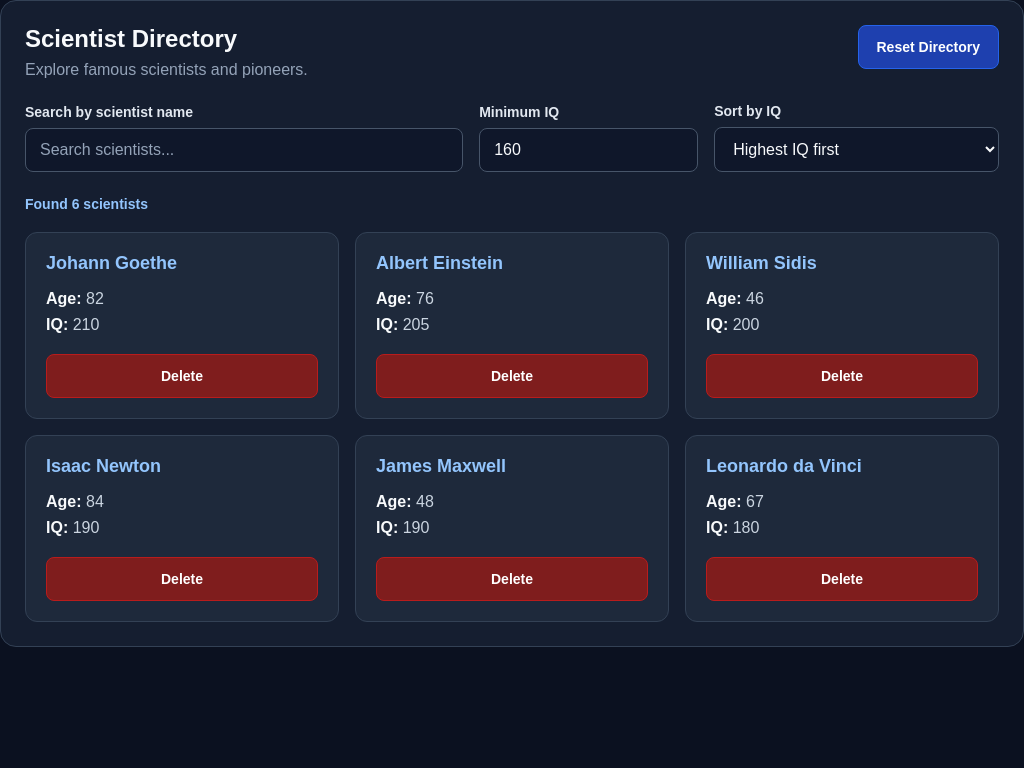
ScientistDirectory › focuses Reset when no results remain
The width and height of the screenshot is (1024, 768).
Type "einstein" into the search field labelled "Search by scientist name" at (244, 150), box [25,128,463,172]
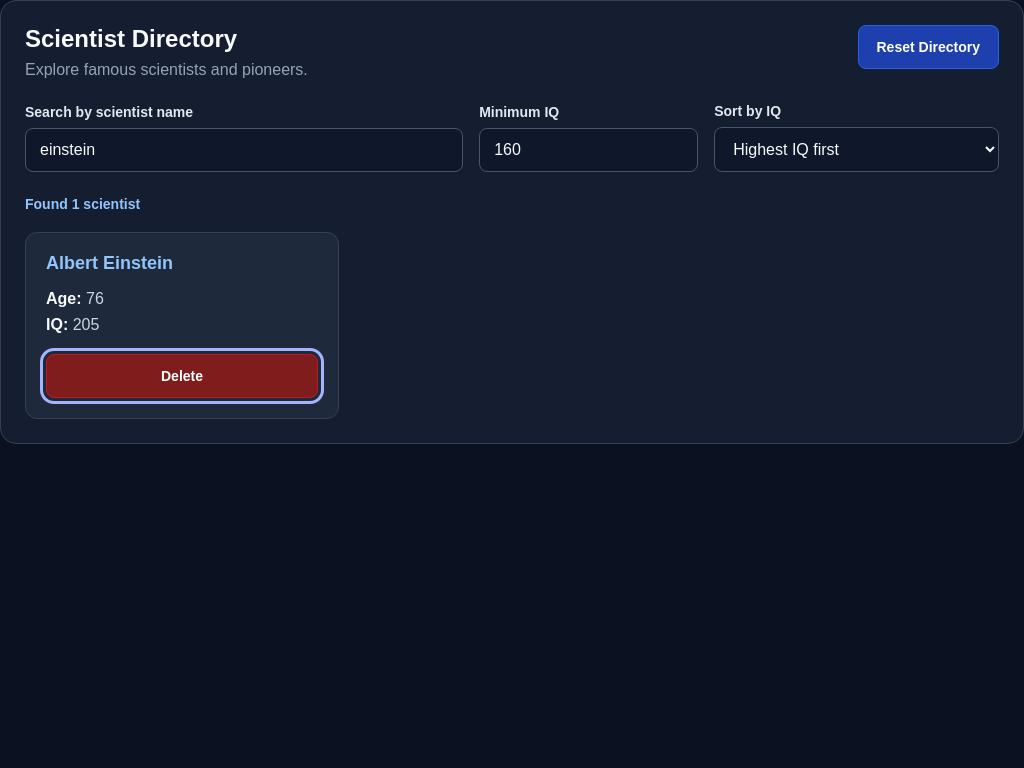
Press Enter
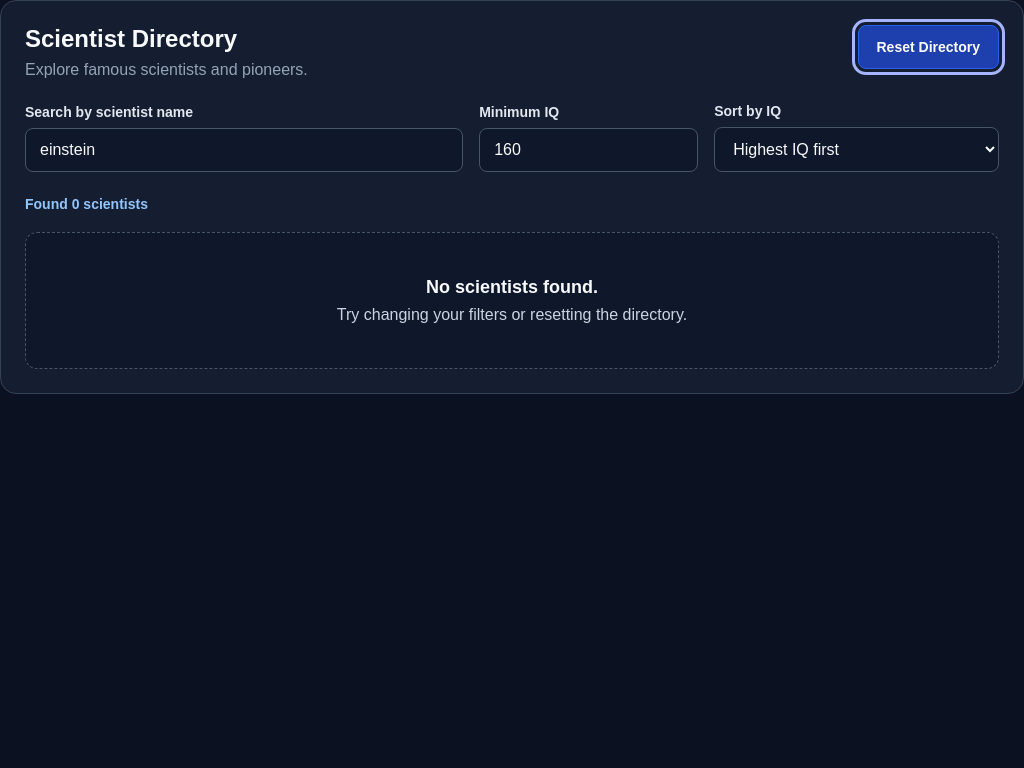
expect the message reads "Found 0 scientists": met, box [25,196,148,212]
